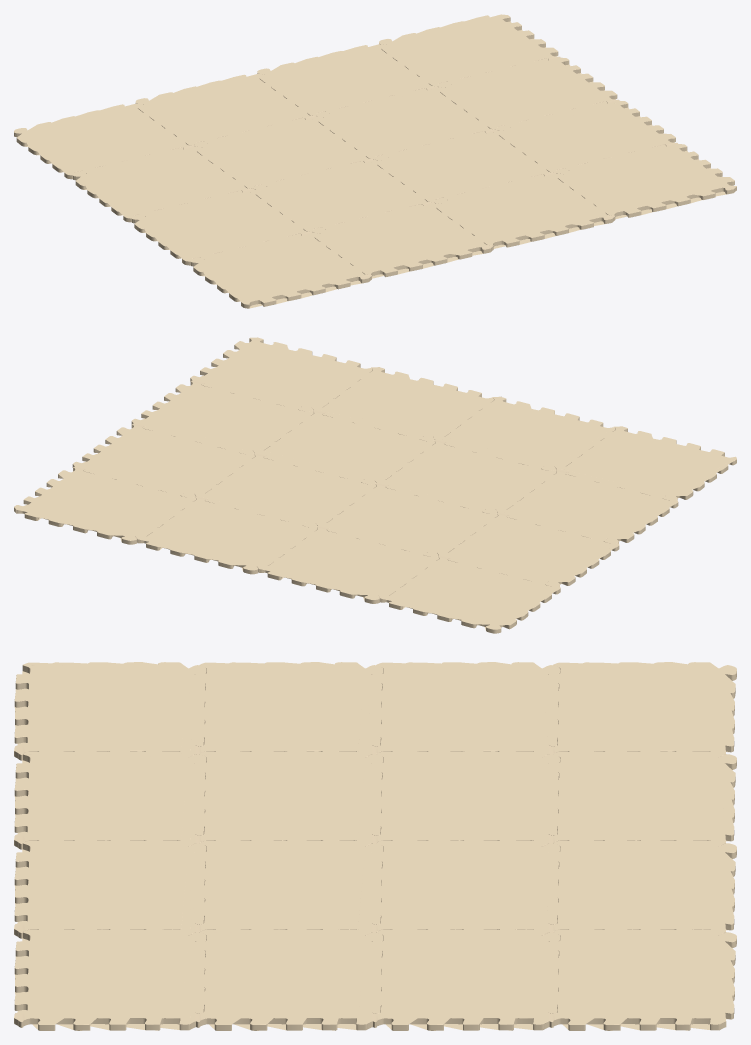
The model's file is tappetino.fbx.
3 views of the same model, one above another, from view 1: azimuth 30°, elevation 25°; view 2: azimuth 150°, elevation 25°; view 3: azimuth 270°, elevation 25° (orthographic). The views are drawn at different scales.
Parts seen in each view (by area): view 1: Customizable kids mat (geo nodes); view 2: Customizable kids mat (geo nodes); view 3: Customizable kids mat (geo nodes).
Boxes of the visible parts, <box> form: Customizable kids mat (geo nodes): <box>14,14,736,308</box>; Customizable kids mat (geo nodes): <box>14,337,736,633</box>; Customizable kids mat (geo nodes): <box>14,662,736,1030</box>.
Bounding box in the file's own units: 131 × 1.04 × 110.
